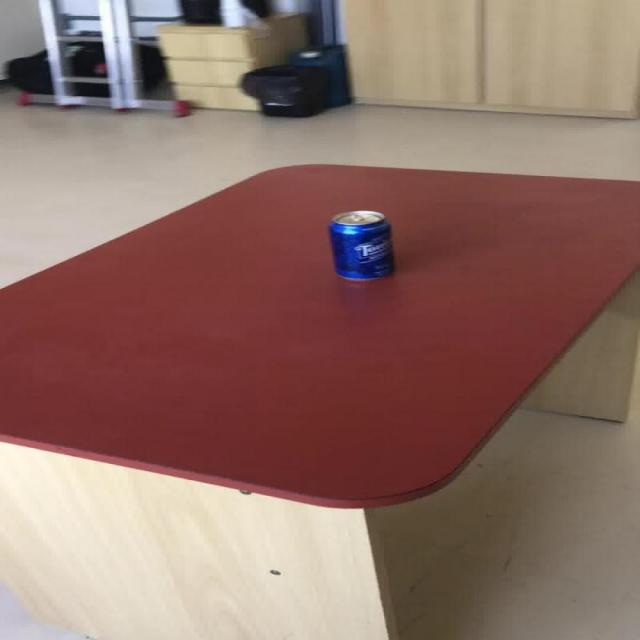Tonic: (326, 209, 393, 280)
